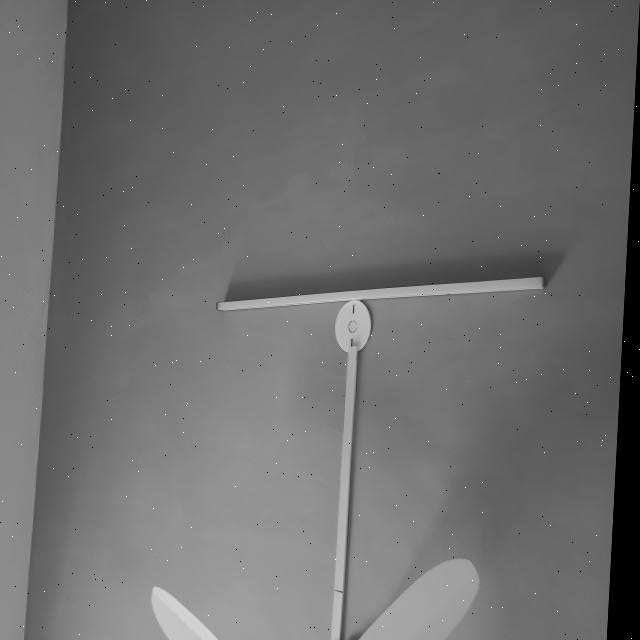fluorescent tube: (214, 250, 560, 342)
